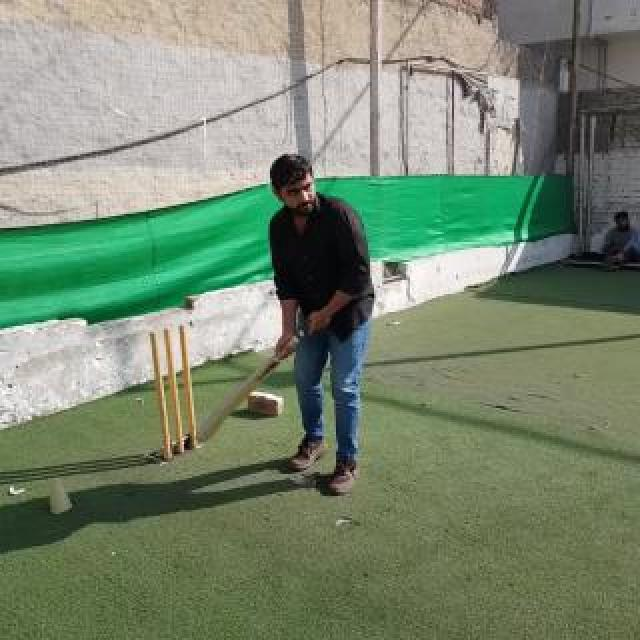bat: (195, 321, 311, 441)
